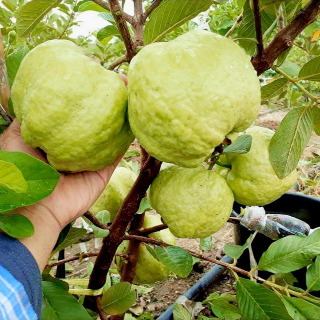oi: (123, 26, 263, 170), (12, 37, 137, 174), (144, 160, 239, 239)
